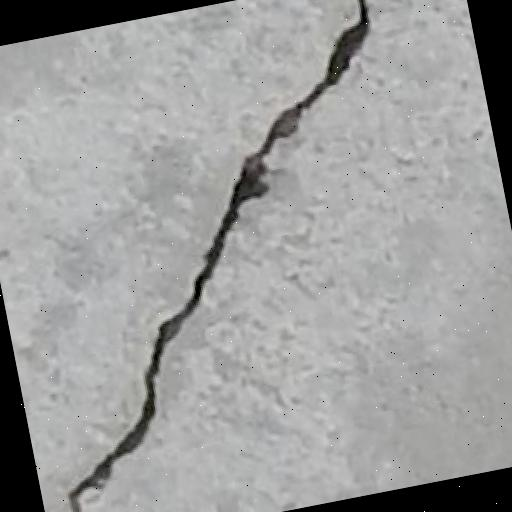spalling: (57, 0, 386, 512)
